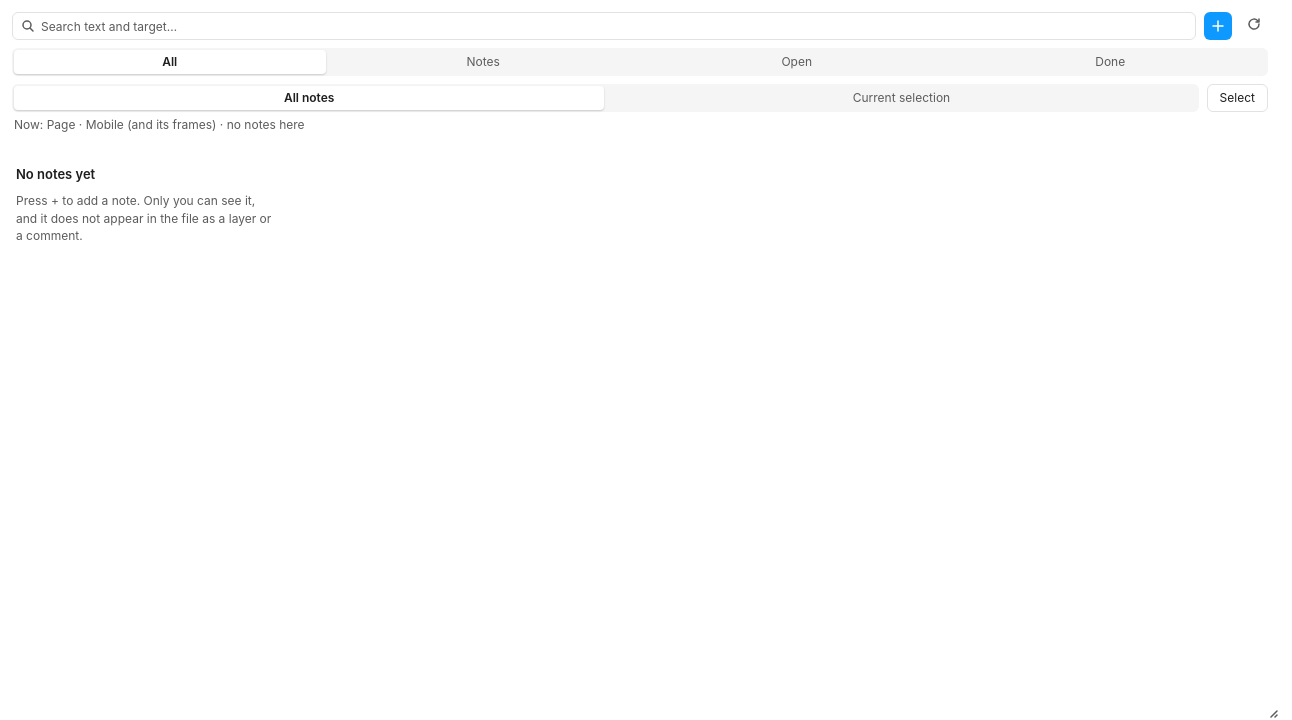
Test case: refreshing when the window gets the focus back › reads the list again
The width and height of the screenshot is (1292, 720).
Expected: the button named "Add note" is shown, [1204,12,1232,40]
Click the button named "Refresh the list". click: (1254, 26)
box: [1240,12,1268,40]
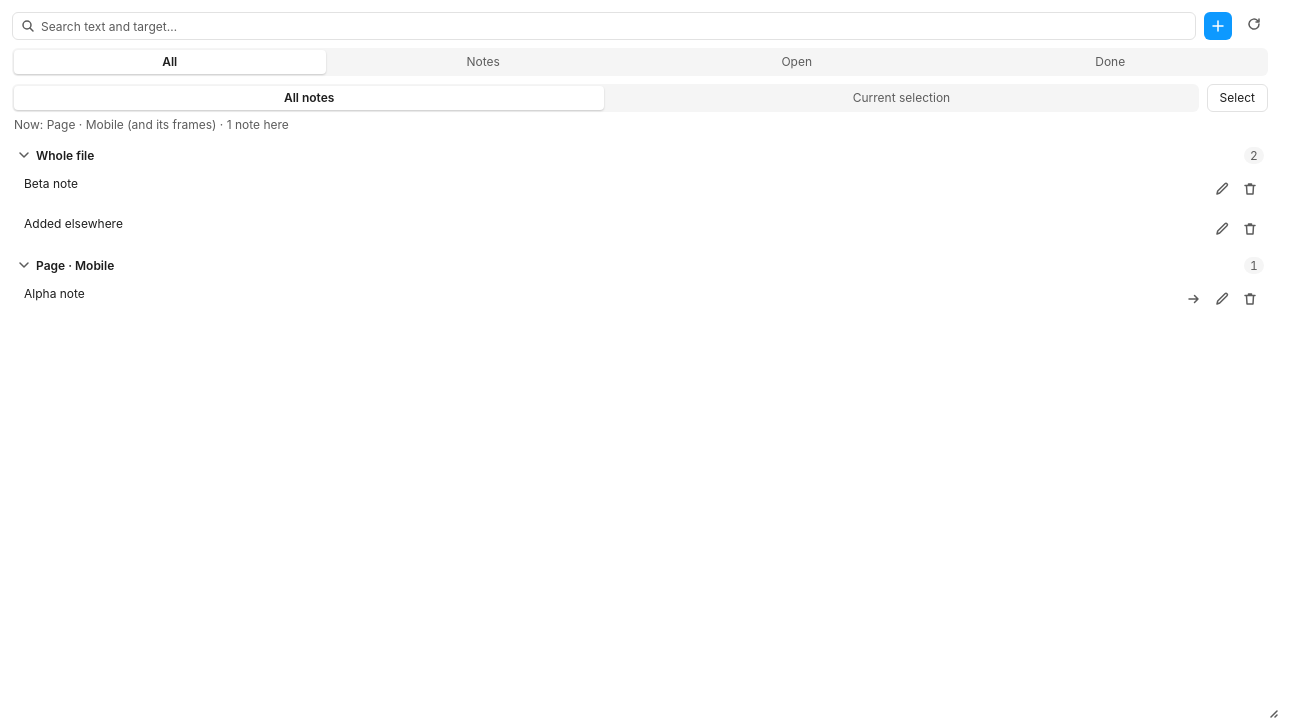
Expected: the text "Alpha note" is shown, [24,286,85,301]
Expected: the text "Added elsewhere" is shown, [24,216,123,231]
